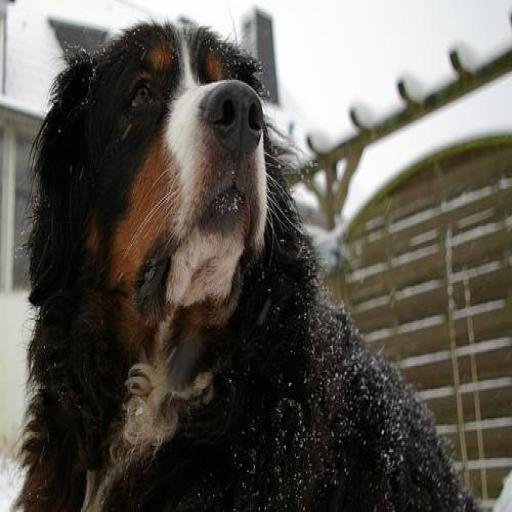dog_face: (50, 20, 279, 312)
